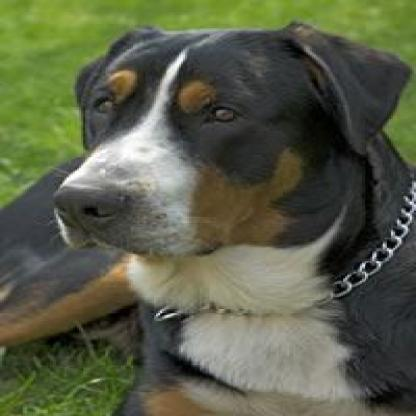Greater_Swiss_Mountain_dog: (0, 19, 412, 413)
